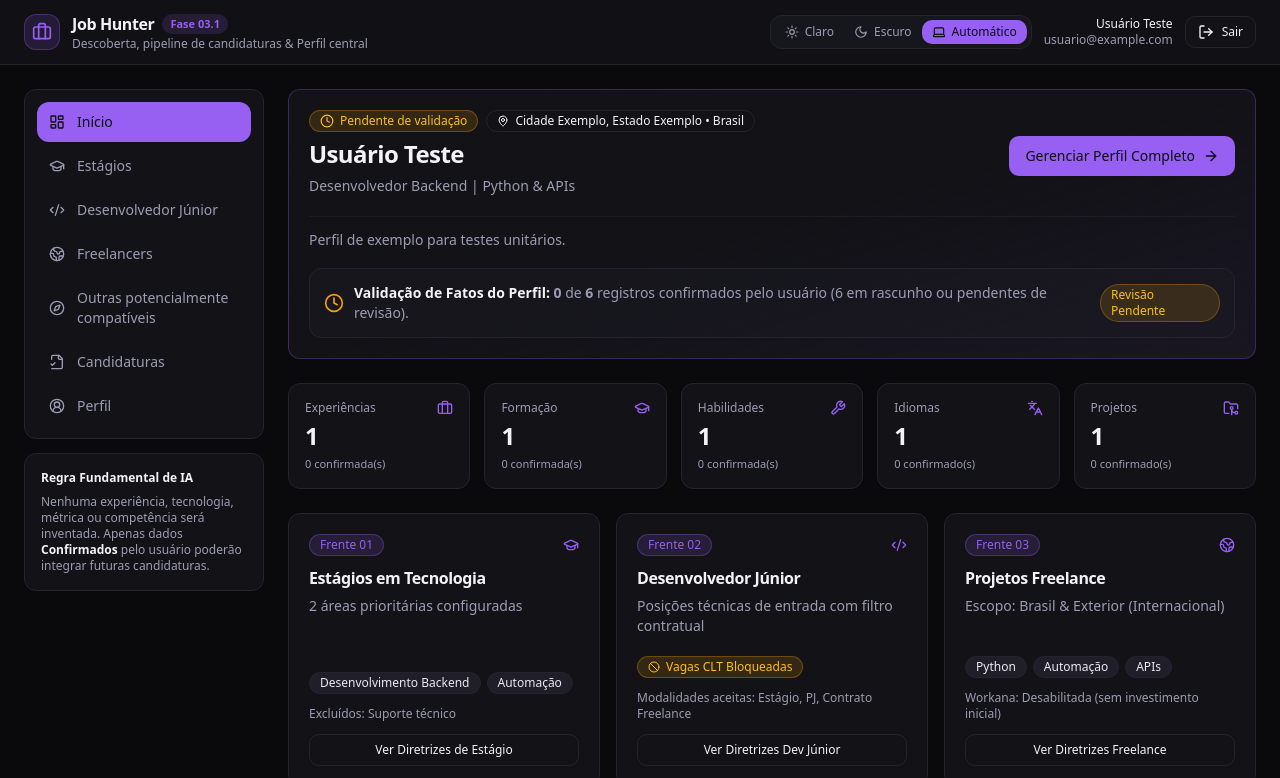
Test: Job Hunter Frontend - Fase 03.1 Pipeline de Candidaturas › acompanha vaga do catálogo, renderiza Kanban/indicadores, sinaliza prazo vencido e faz reversão em falha de movimentação
The width and height of the screenshot is (1280, 778).
Expected: the text "Cidade Exemplo, Estado Exemplo • Brasil" is shown, [486, 110, 755, 132]
# Navega para Desenvolvedor Júnior e acompanha vaga do catálogo
Click the button "Desenvolvedor Júnior". click: (144, 210)
box: [37, 190, 251, 230]
(page scrolled)
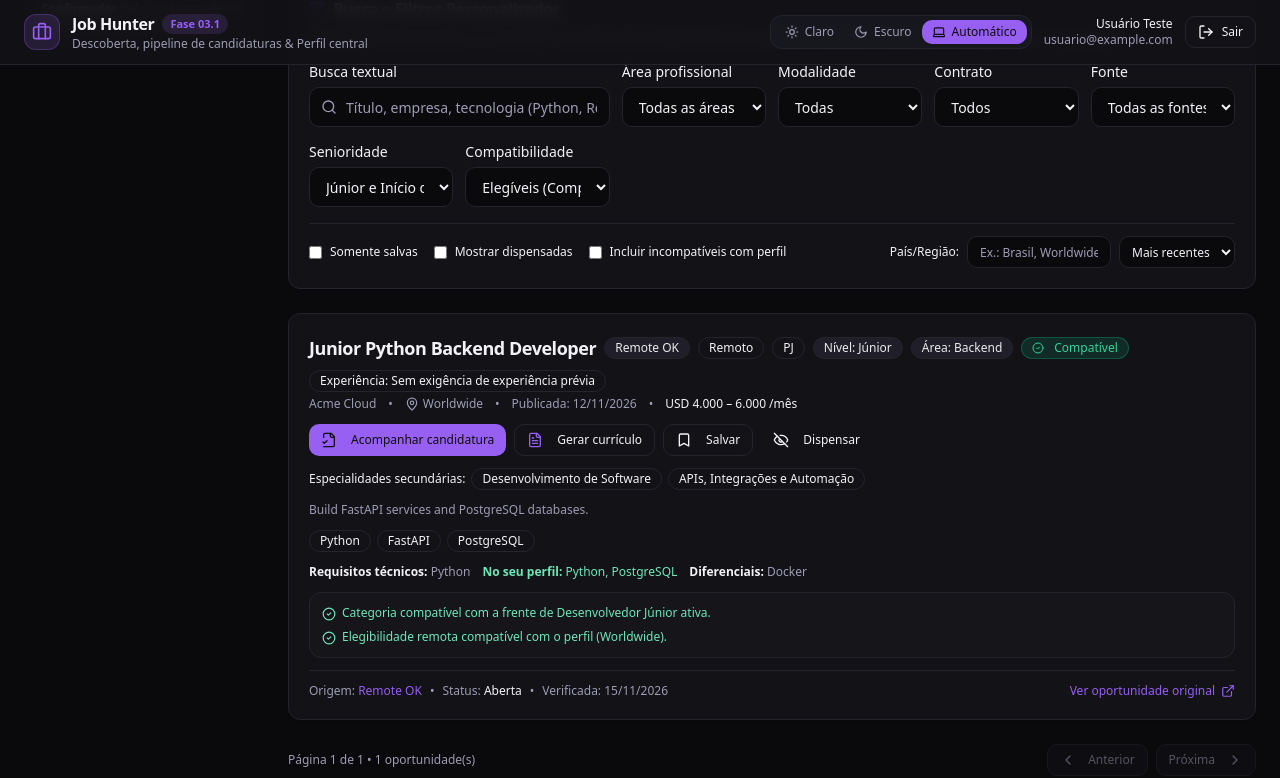
Expected: the button "Acompanhar candidatura" is shown
Click the button "Acompanhar candidatura". click: (408, 440)
box: [309, 424, 506, 456]
(page scrolled)
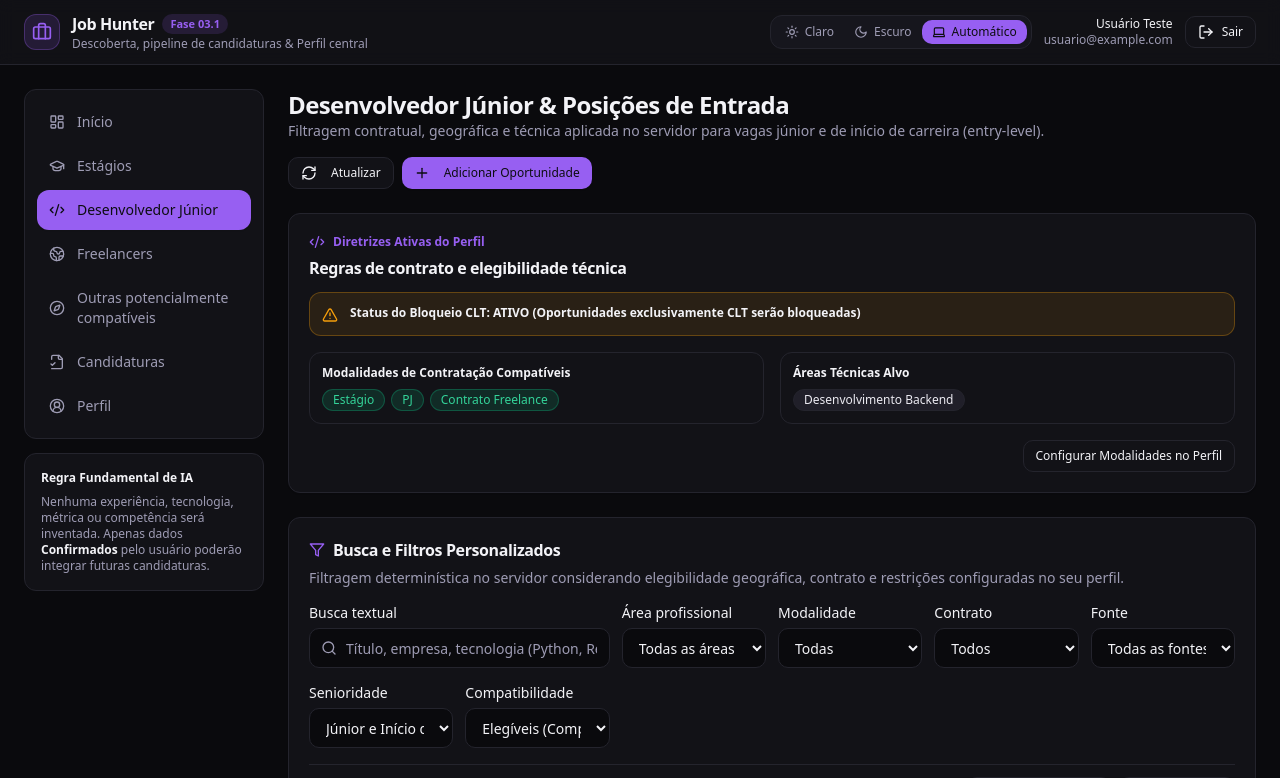
# Navega para Candidaturas e valida Kanban, prazo vencido, encerradas separadas e reversão em erro 500
Click the button "Candidaturas". click: (144, 362)
box: [37, 342, 251, 382]
(page scrolled)
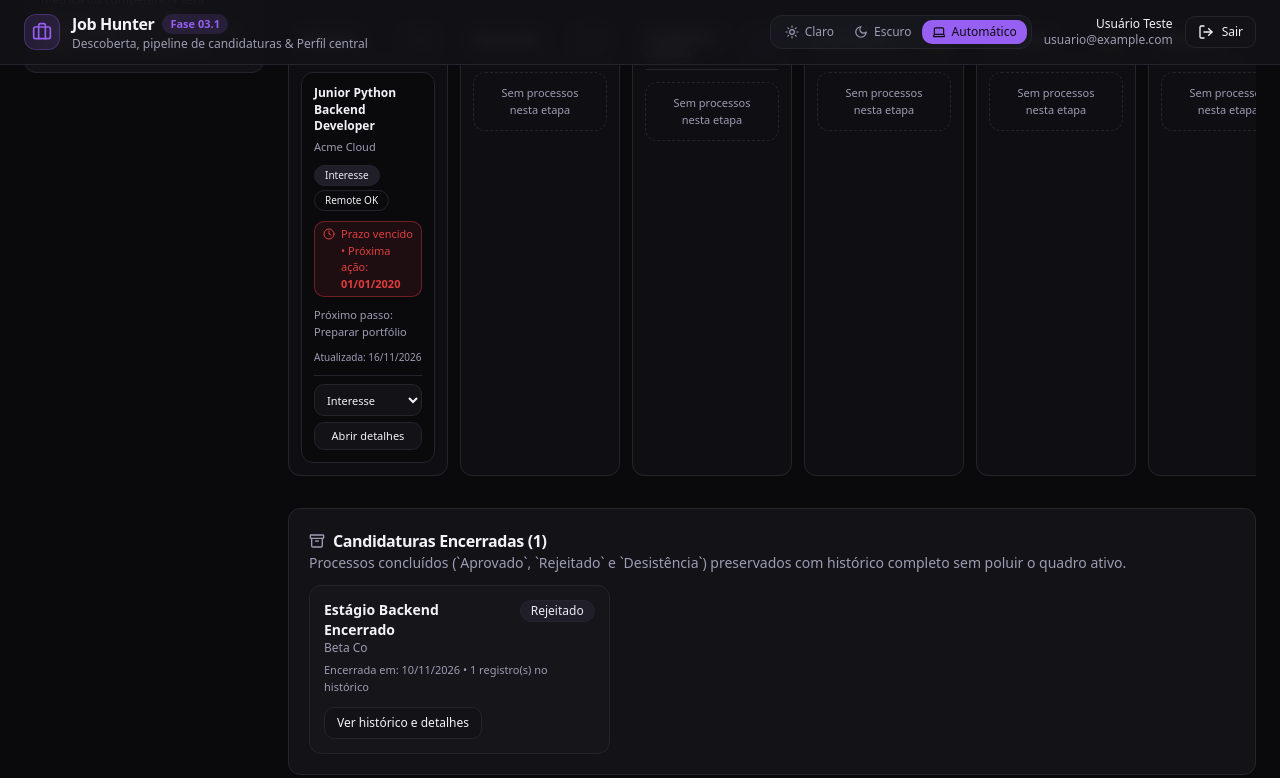
Expected: the element with test id "closed-applications-section" shows "Estágio Backend Encerrado", [324, 600, 439, 639]
Select "Candidatura enviada" in the dropdown named "Mover etapa de Junior Python Backend Developer". click: (368, 400)
box: [314, 384, 422, 416]
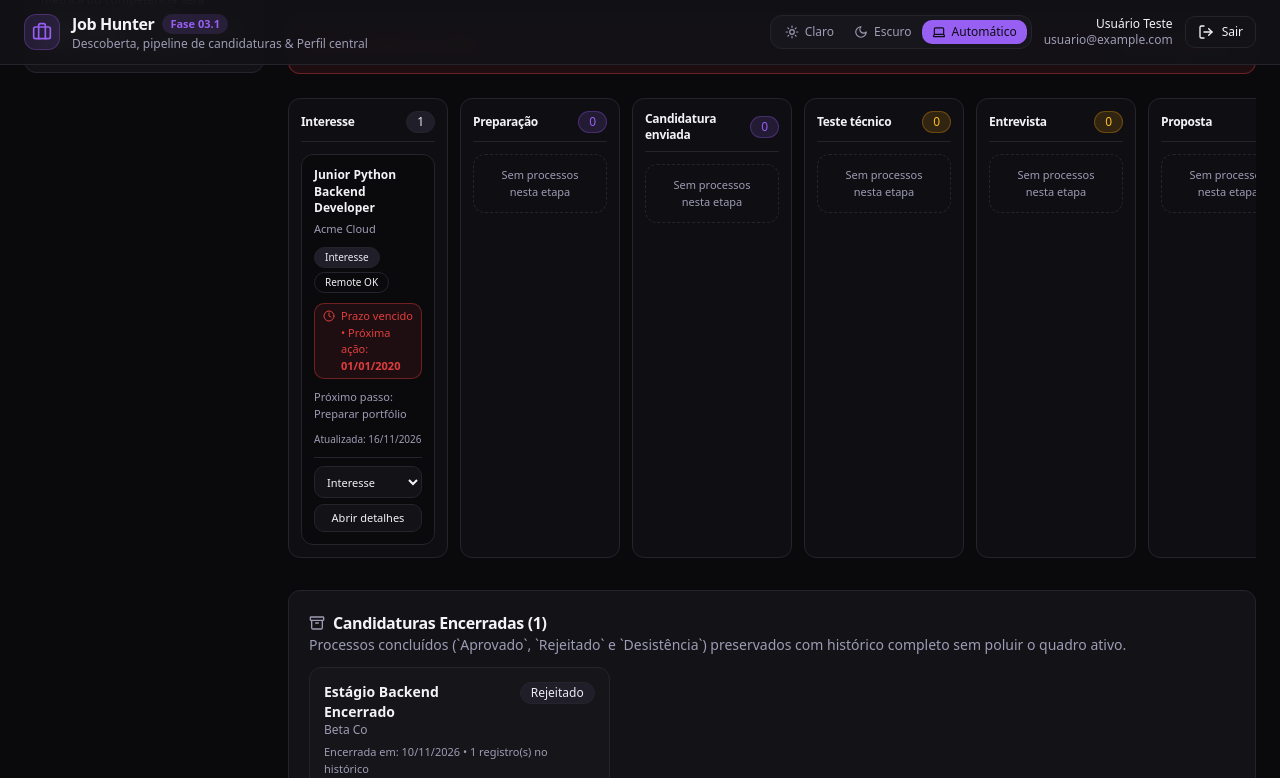
Expected: the text "Falha simulada de servidor" is shown, [305, 35, 482, 55]
Expected: the dropdown named "Mover etapa de Junior Python Backend Developer" shows "Interesse", [314, 466, 422, 498]
# Abre detalhes e verifica histórico de movimentações
Click the button "Abrir detalhes". click: (368, 518)
box: [314, 504, 422, 532]
(page scrolled)
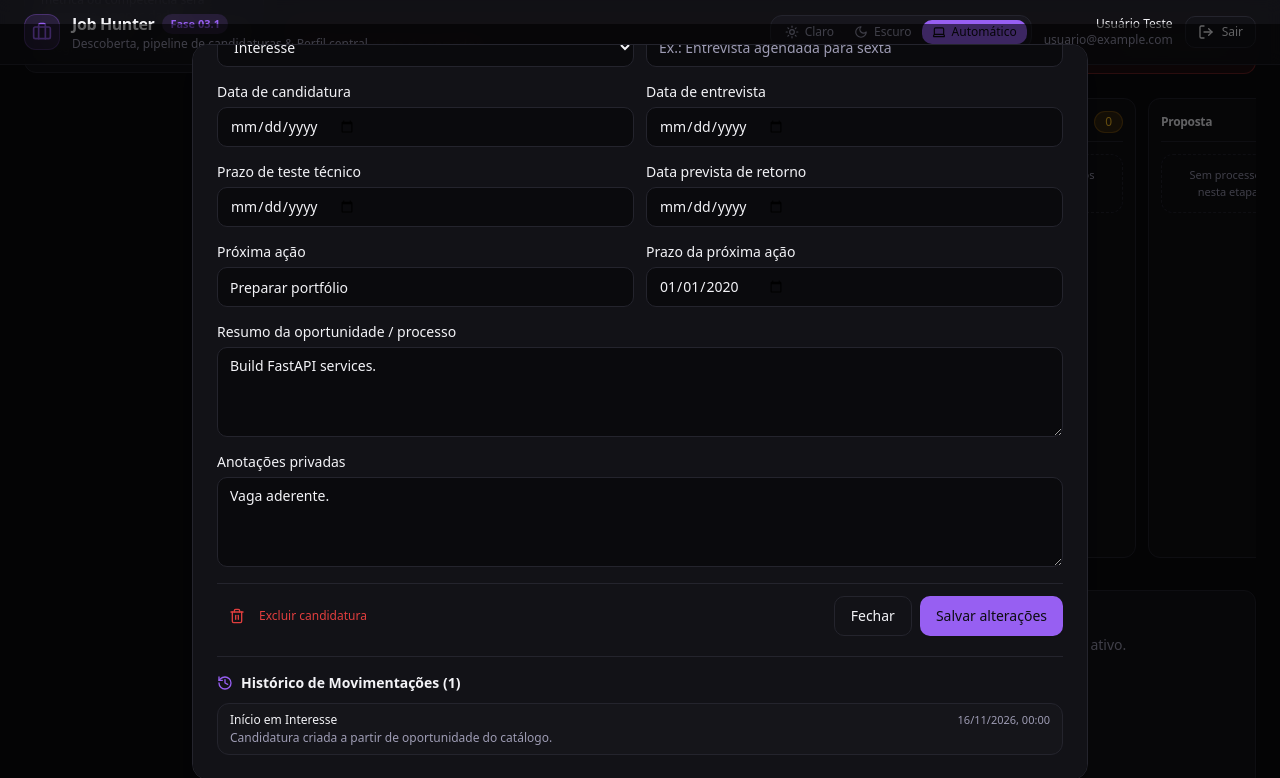
Expected: the heading "Histórico de Movimentações (1)" is shown, [217, 673, 460, 692]
